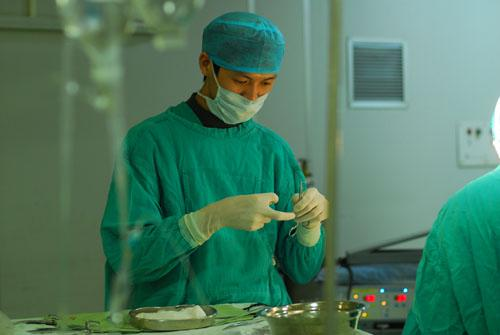WRONG: (217, 69, 275, 127)
